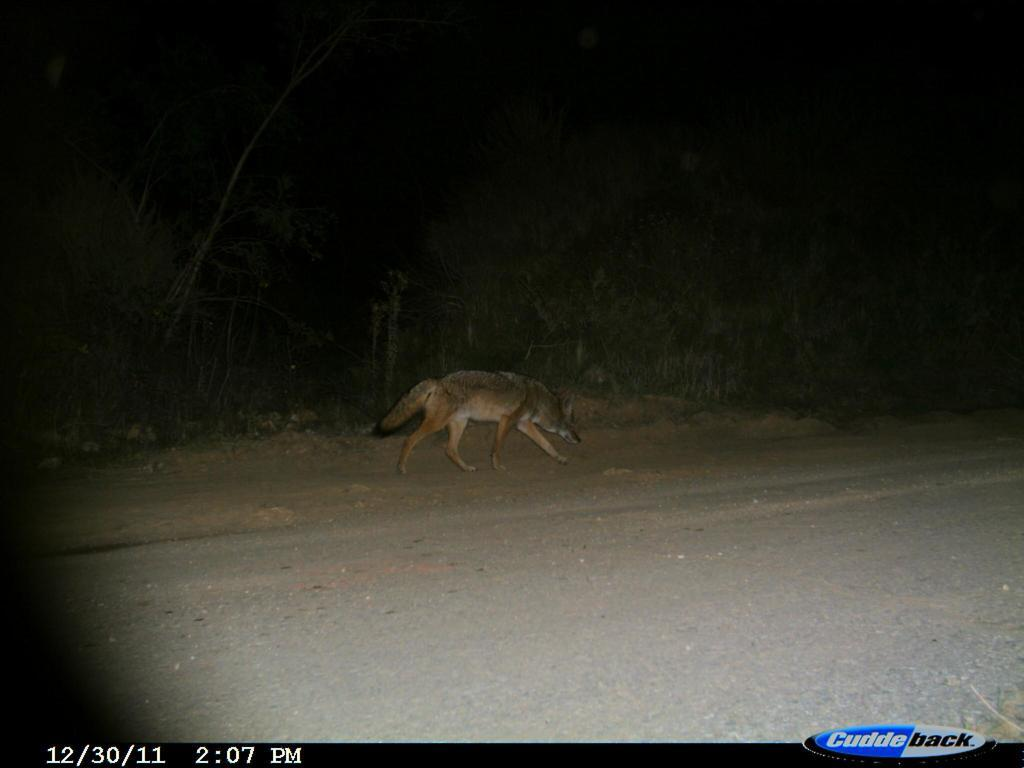coyote: (364, 355, 589, 487)
